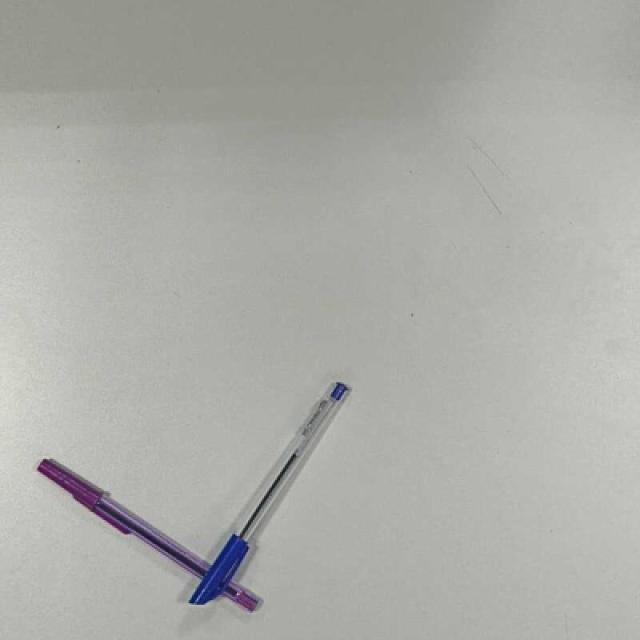caneta: (189, 379, 357, 614), (34, 456, 262, 616)
